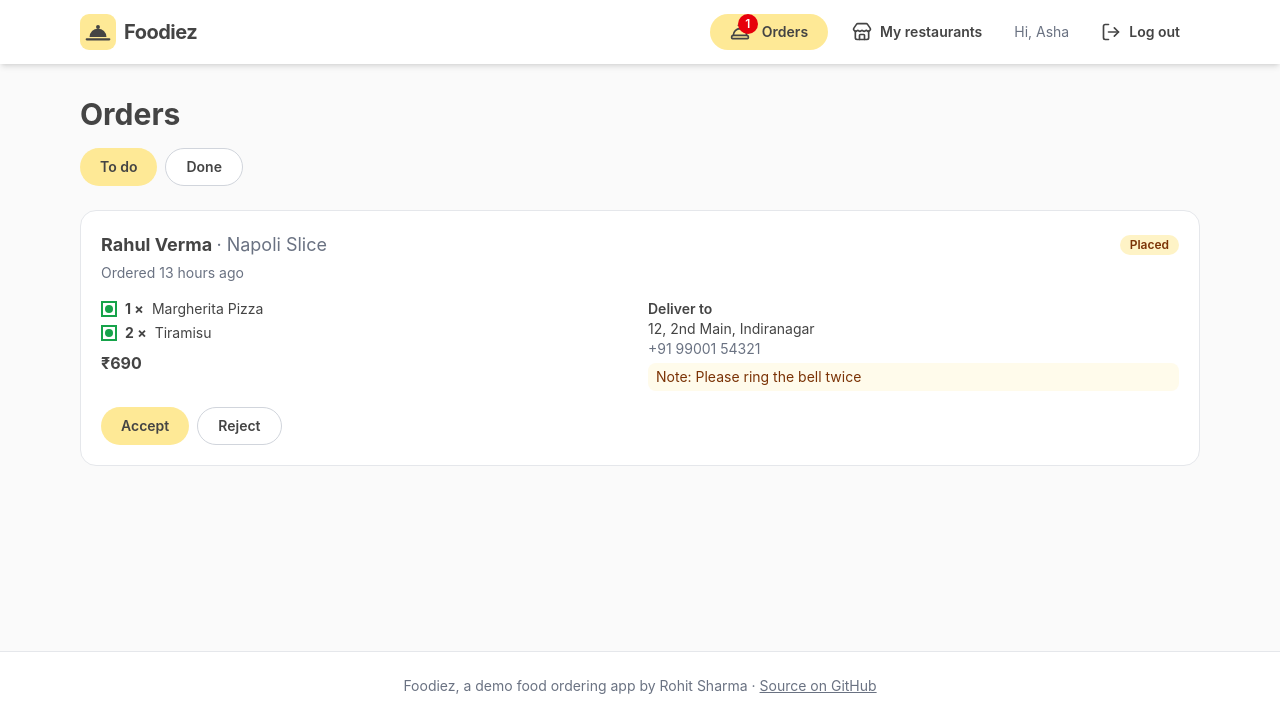
Test case: a restaurant's orders › shows new orders and moves them to the next step
Expected: the text "Note: Please ring the bell twice" is shown, [648,363,1179,391]
Expected: the link with aria-label "Orders, 1 new" is shown, [710,14,828,50]
Click the button "Accept".
click(145, 426)  # box [101,407,189,445]
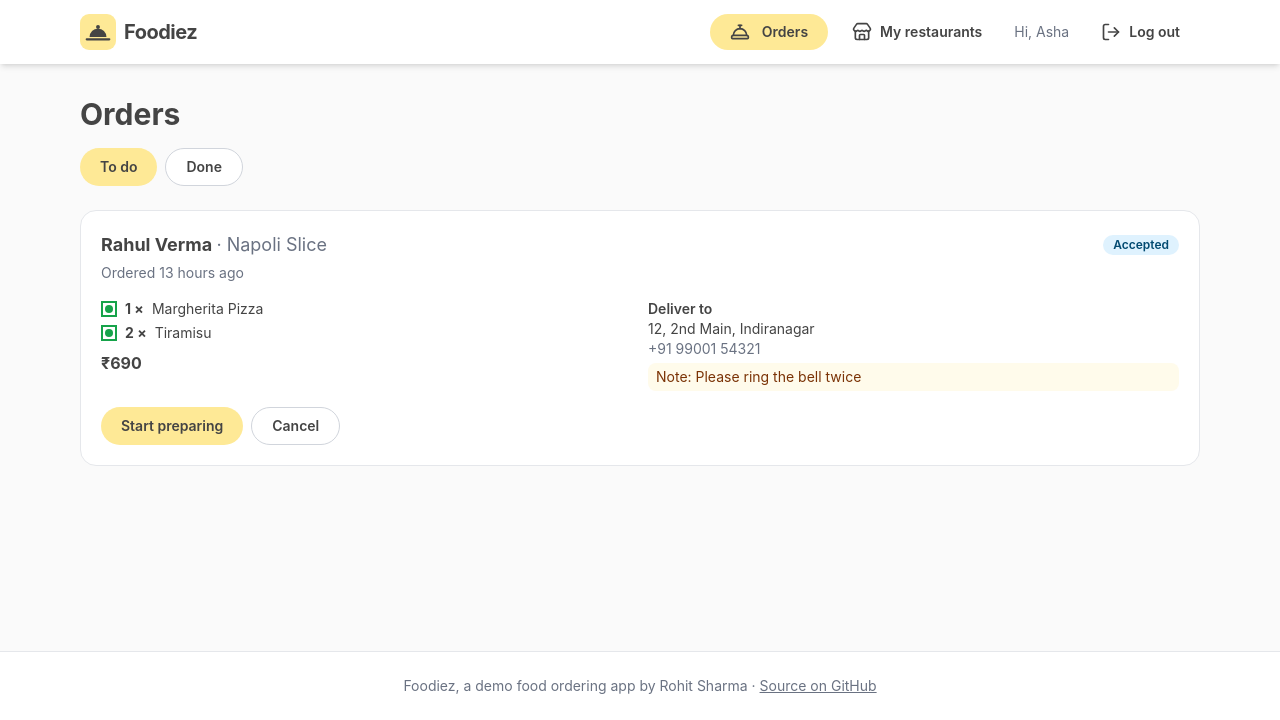
Expected: the button "Start preparing" is shown, [101,407,243,445]
Expected: the link with aria-label "Orders, 0 new" is shown, [710,14,828,50]
